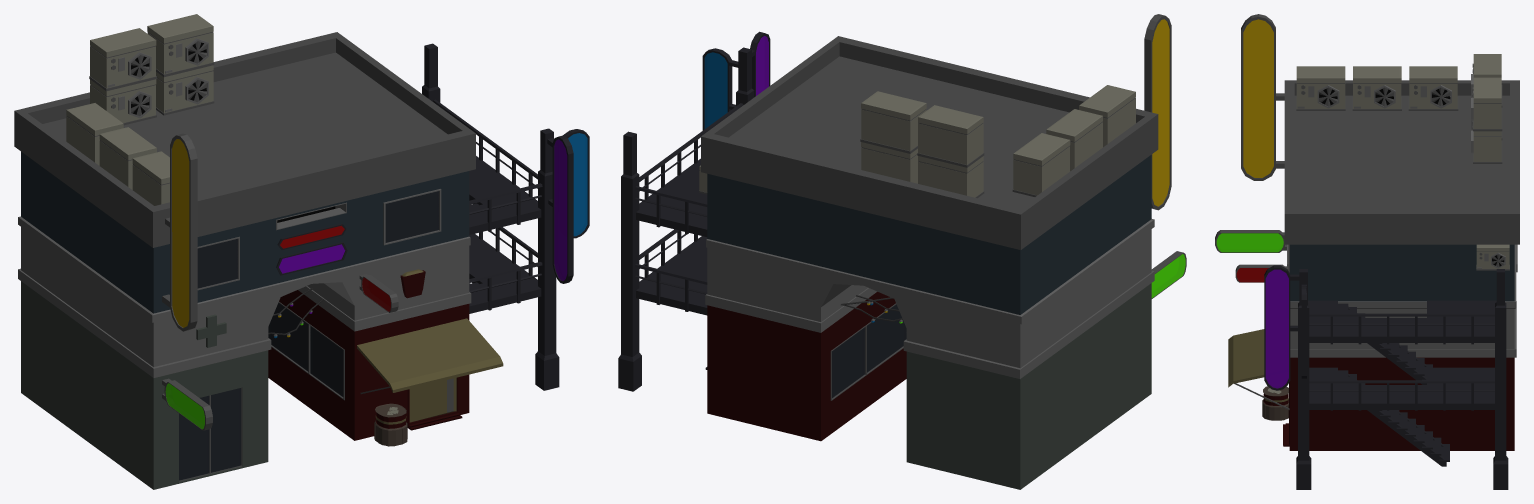
File: CybP-DoubleBuilding.fbx
3 views of the same model, side by side, from view 1: azimuth 30°, elevation 25°; view 2: azimuth 150°, elevation 25°; view 3: azimuth 270°, elevation 25° (orthographic). The views are drawn at different scales.
Parts seen in each view (by area): view 1: CybP_DoubleBuilding; view 2: CybP_DoubleBuilding; view 3: CybP_DoubleBuilding.
Boxes of the visible parts, x1,y1,x2,y2 form: CybP_DoubleBuilding: (14, 14, 589, 489); CybP_DoubleBuilding: (618, 14, 1186, 489); CybP_DoubleBuilding: (1215, 14, 1519, 489).
Size of the model in its own units: 12.44 by 9.72 by 8.66.
